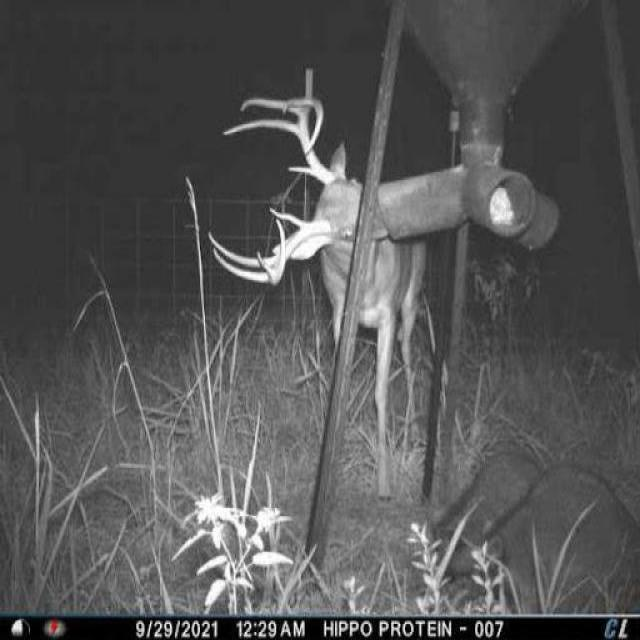deer: (201, 83, 435, 514)
